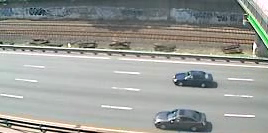car: (151, 105, 209, 133), (170, 67, 215, 90)
